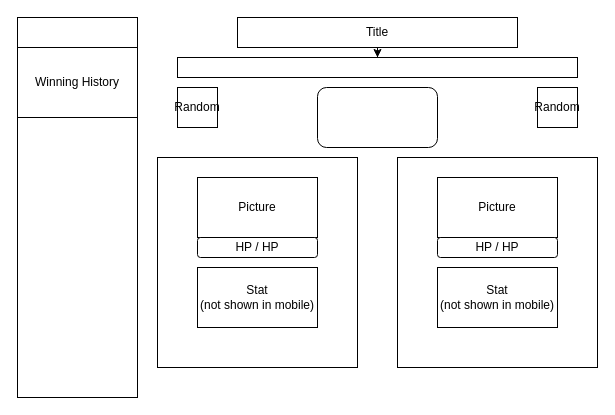
This 615x415 diagram has some shape labels left out. The shapes that lost their labels are listed below. From the top down, each one's centre as x and y in pixels, then its label:
At [77,32]: "Menu".
At [377,67]: "Subtitle".
At [377,117]: "BATTLE!!!".
At [77,257]: "Log of events".
